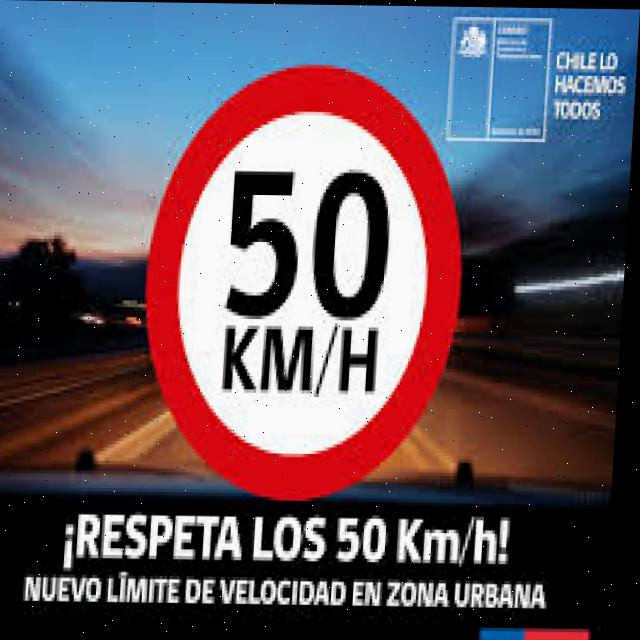Speed limit 50: (136, 57, 479, 503)
